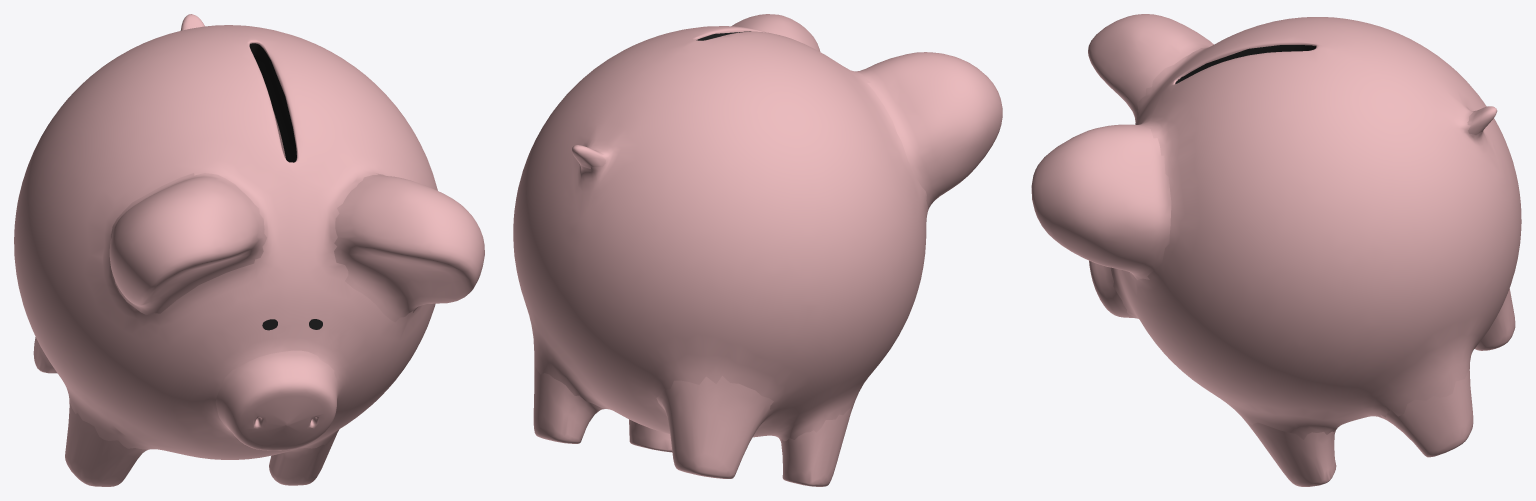
The model's file is pink_pig.fbx.
The picture shows the model from 3 angles, left to right: view 1: azimuth 30°, elevation 25°; view 2: azimuth 150°, elevation 25°; view 3: azimuth 270°, elevation 25°; orthographic projection. The views are drawn at different scales.
Parts seen in each view (by area): view 1: pink_pig, pink_pig.005, pink_pig.007, pink_pig.008, pink_pig.002, pink_pig.001; view 2: pink_pig, pink_pig.007, pink_pig.004, pink_pig.002, pink_pig.003, pink_pig.005, pink_pig.001, pink_pig.006; view 3: pink_pig, pink_pig.005, pink_pig.007, pink_pig.003, pink_pig.001, pink_pig.004, pink_pig.008, pink_pig.006.
Part boxes in pixels (left/top/right/bottom): pink_pig: left=14, top=25, right=437, bottom=459; pink_pig.005: left=334, top=173, right=484, bottom=322; pink_pig.007: left=109, top=173, right=266, bottom=314; pink_pig.008: left=215, top=350, right=338, bottom=450; pink_pig.002: left=65, top=403, right=147, bottom=486; pink_pig.001: left=269, top=430, right=338, bottom=485; pink_pig: left=513, top=26, right=928, bottom=441; pink_pig.007: left=860, top=52, right=1002, bottom=208; pink_pig.004: left=656, top=376, right=774, bottom=478; pink_pig.002: left=781, top=407, right=850, bottom=486; pink_pig.003: left=533, top=367, right=605, bottom=443; pink_pig.005: left=731, top=14, right=820, bottom=51; pink_pig.001: left=629, top=419, right=672, bottom=452; pink_pig.006: left=572, top=145, right=605, bottom=168; pink_pig: left=1110, top=17, right=1521, bottom=439; pink_pig.005: left=1031, top=124, right=1171, bottom=280; pink_pig.007: left=1088, top=14, right=1213, bottom=121; pink_pig.003: left=1376, top=369, right=1473, bottom=457; pink_pig.001: left=1248, top=422, right=1336, bottom=486; pink_pig.004: left=1475, top=288, right=1515, bottom=350; pink_pig.008: left=1089, top=260, right=1136, bottom=318; pink_pig.006: left=1467, top=106, right=1497, bottom=134.
Size of the model in its own units: 200 by 224 by 238.
